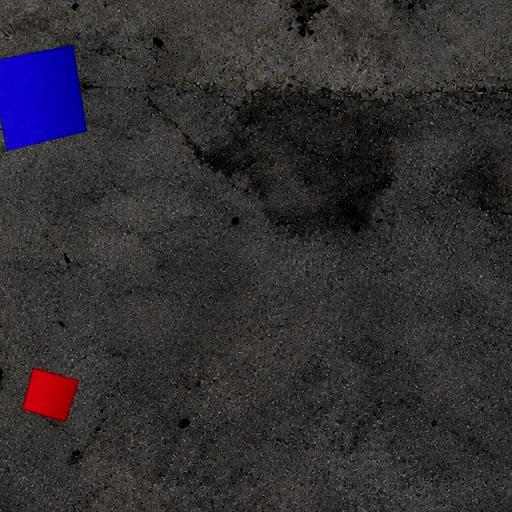BLUE_SQUARE: (0, 44, 87, 151)
RED_SQUARE: (22, 368, 80, 422)
